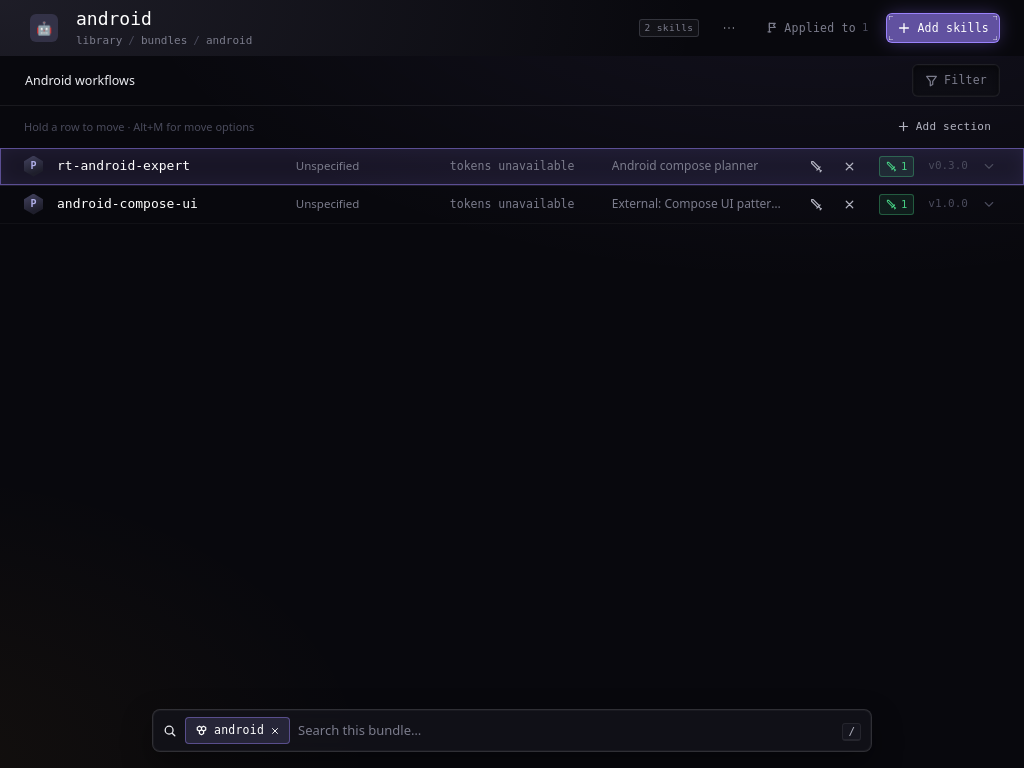
it: Library bundle mode — case 5: add skills popover › appends a picked skill to the current membership
Expected: the text "brainstorm" is not shown
What coordinates should you click on to do the following:
click the button with test id "bundle-add-skills"
I would click on:
 (943, 28)
Its box is [886,13,1000,43].
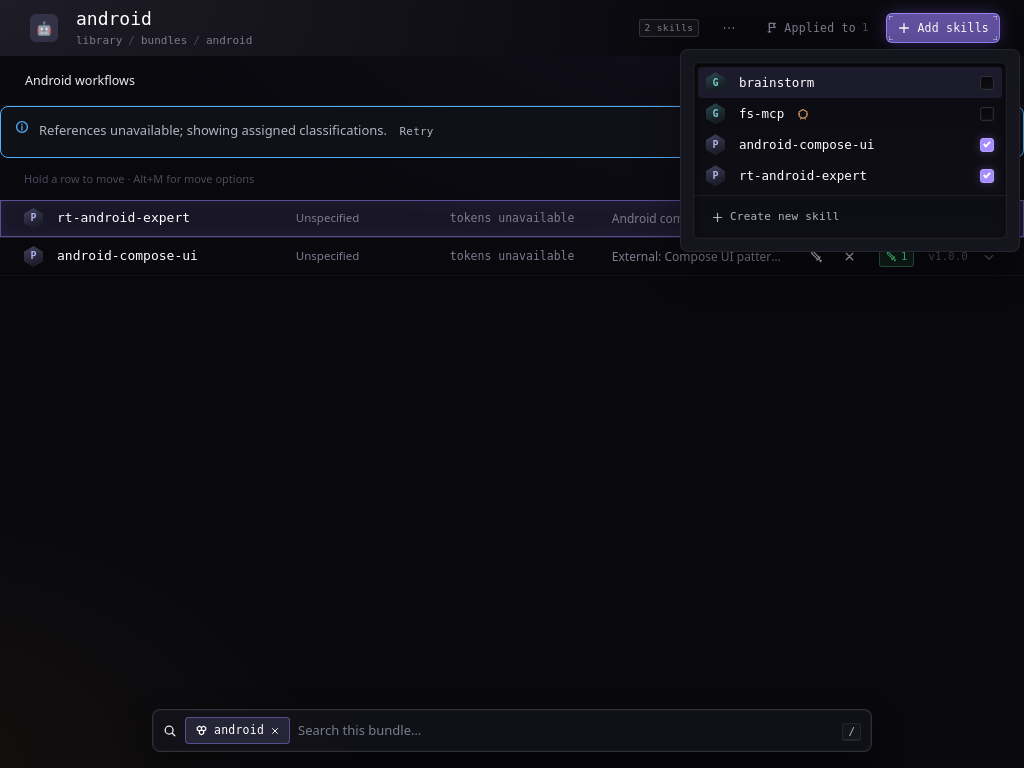
What coordinates should you click on to do the following:
click the checkbox named "brainstorm"
I would click on:
 (987, 83)
Its box is [980,76,994,90].
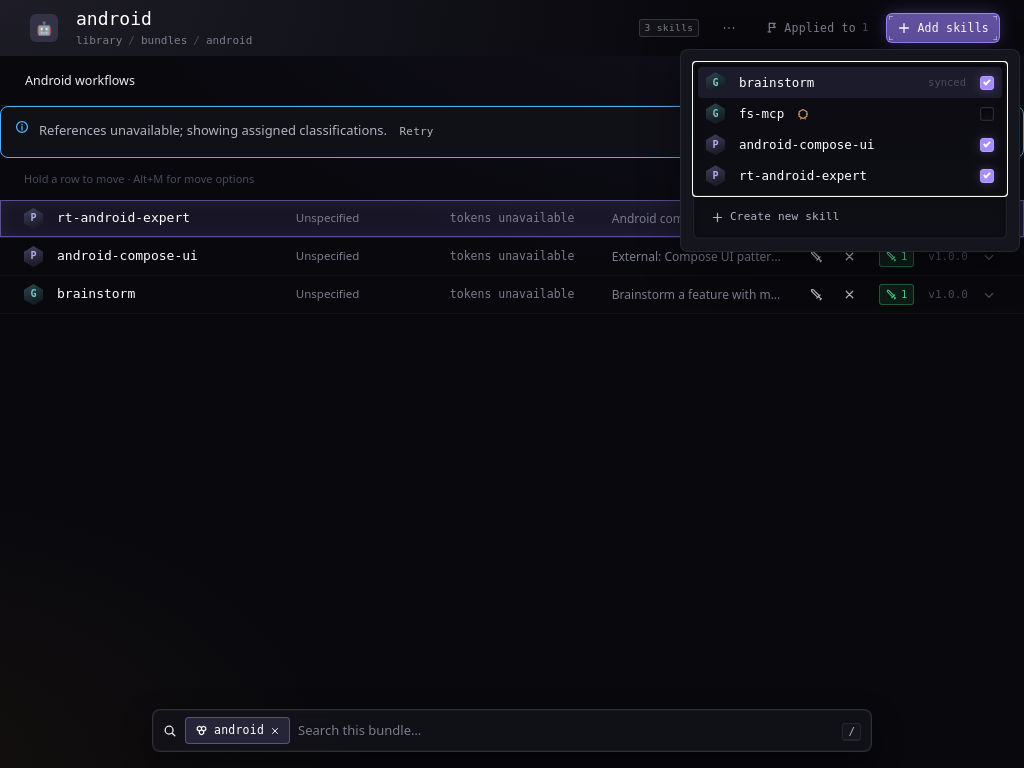
Expected: the number of buttons with class "skill-row" is 3, [0,200,1023,238]; [0,238,1023,276]; [0,276,1023,314]
